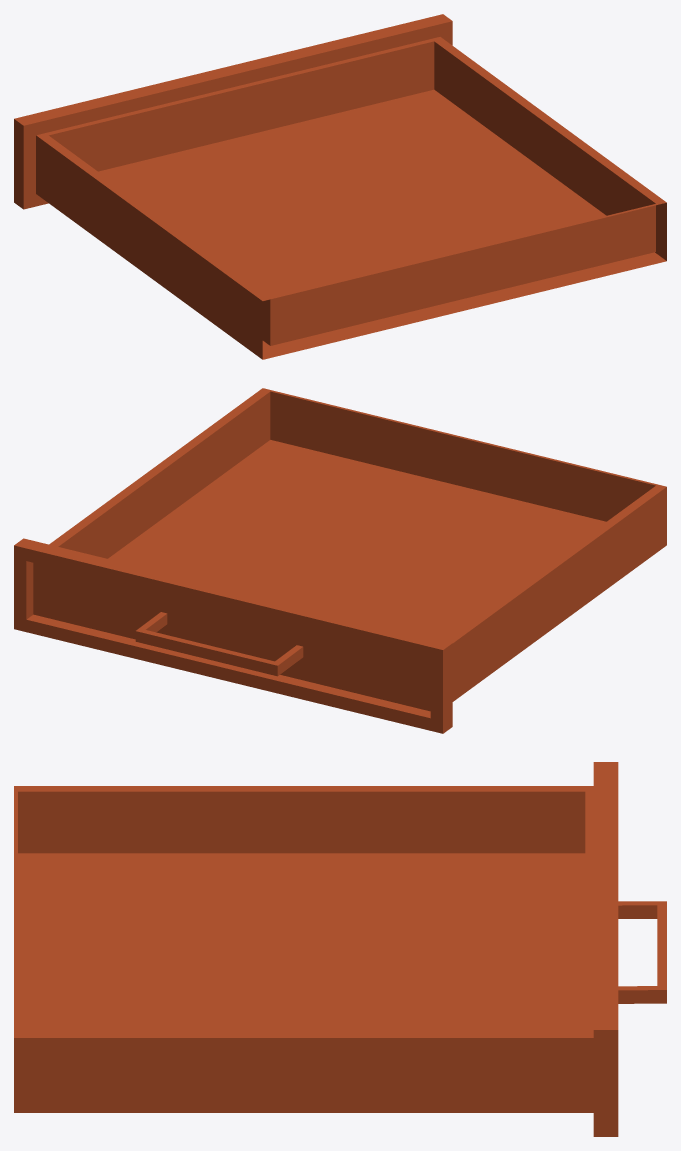
Rendered from tiroireBureau_01.fbx.
3 views of the same model, one above another, from view 1: azimuth 30°, elevation 25°; view 2: azimuth 150°, elevation 25°; view 3: azimuth 270°, elevation 25° (orthographic). The views are drawn at different scales.
Visible parts, largest first — view 1: tiroireBureau_01; view 2: tiroireBureau_01; view 3: tiroireBureau_01.
Boxes of the visible parts, x1,y1,x2,y2 form: tiroireBureau_01: [14, 14, 666, 359]; tiroireBureau_01: [14, 388, 666, 733]; tiroireBureau_01: [14, 762, 666, 1136].
Size of the model in its own units: 58.76 by 10.96 by 60.55.
